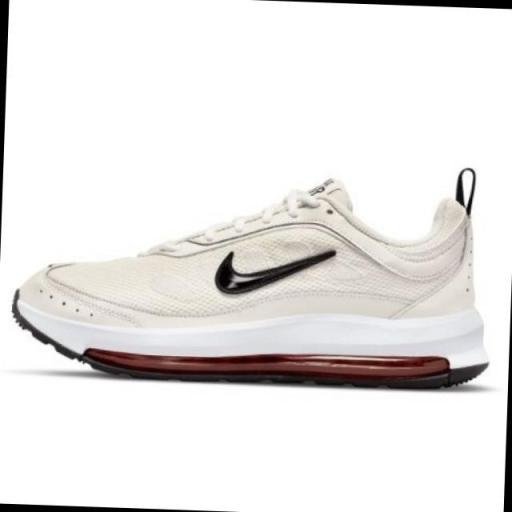Nike: (210, 238, 344, 305)
